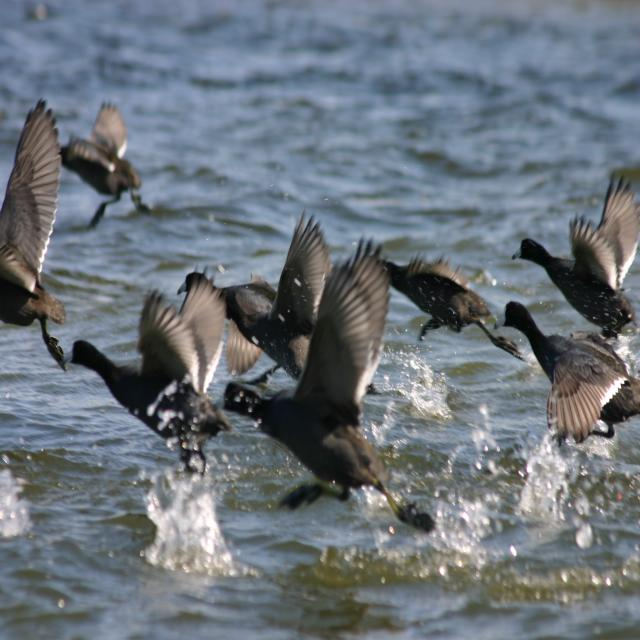bird: (248, 244, 432, 552), (65, 270, 225, 471), (0, 78, 90, 383), (512, 179, 640, 352), (498, 316, 640, 454), (370, 242, 526, 356), (60, 96, 146, 228)
